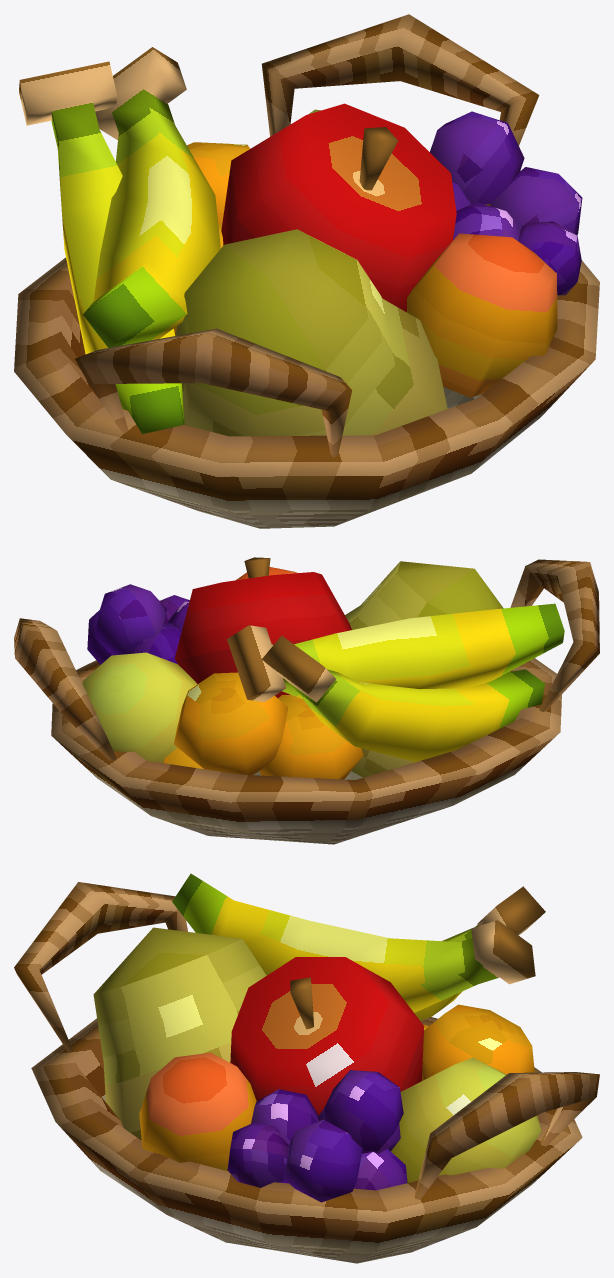
The model's file is ac_fruit-basket.glb.
3 renders of one model, top to bottom at view 1: azimuth 30°, elevation 25°; view 2: azimuth 150°, elevation 25°; view 3: azimuth 270°, elevation 25°, orthographic. The views are drawn at different scales.
Parts seen in each view (by area): view 1: Mdl_0_Mtl_df_0_m; view 2: Mdl_0_Mtl_df_0_m; view 3: Mdl_0_Mtl_df_0_m.
Part boxes in pixels (box(x1,y1,x2,y2)): Mdl_0_Mtl_df_0_m: box(14, 14, 599, 528); Mdl_0_Mtl_df_0_m: box(14, 557, 599, 844); Mdl_0_Mtl_df_0_m: box(14, 873, 599, 1263).
Bounding box in the file's own units: 23.99 × 12.32 × 23.99.
Materials: 1 (1 with a texture image).
